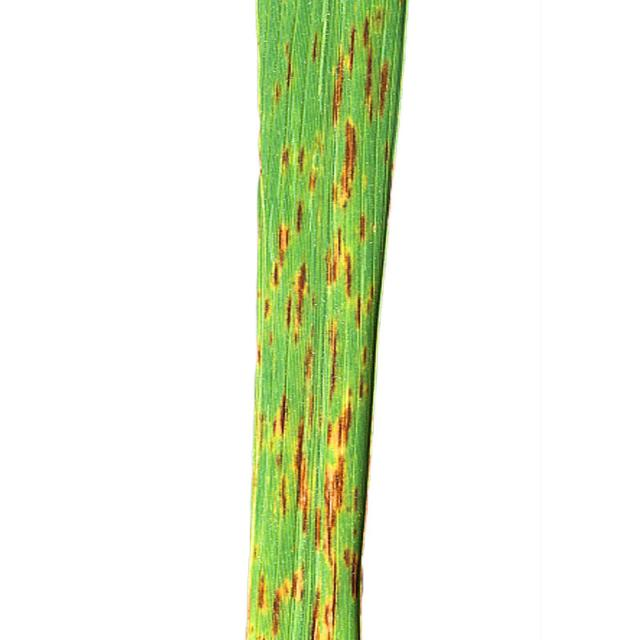Narrow brown: (219, 0, 418, 640)
